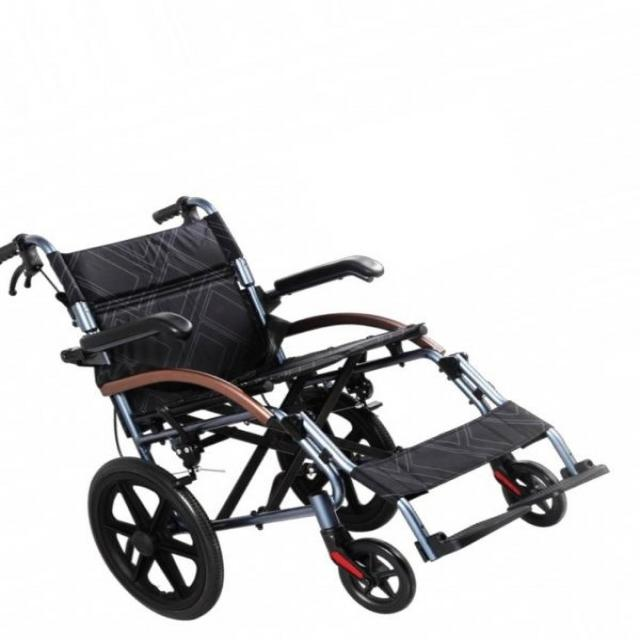wheelchair: (3, 192, 615, 624)
